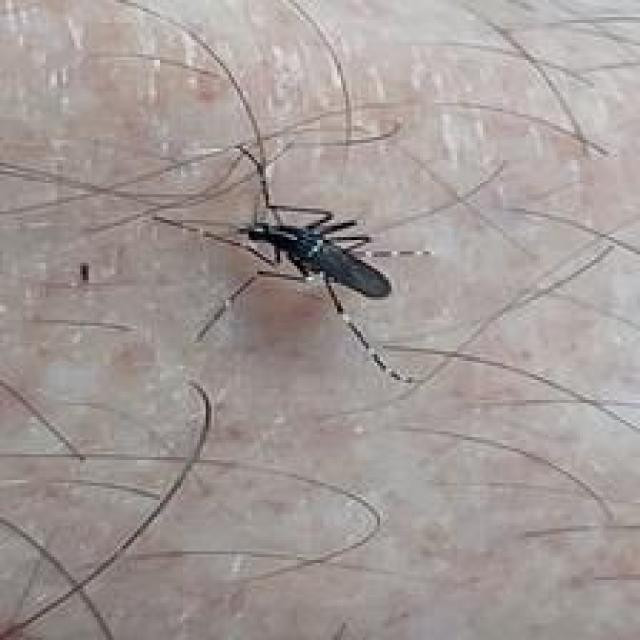Aedes albopictus: (153, 197, 433, 383)
